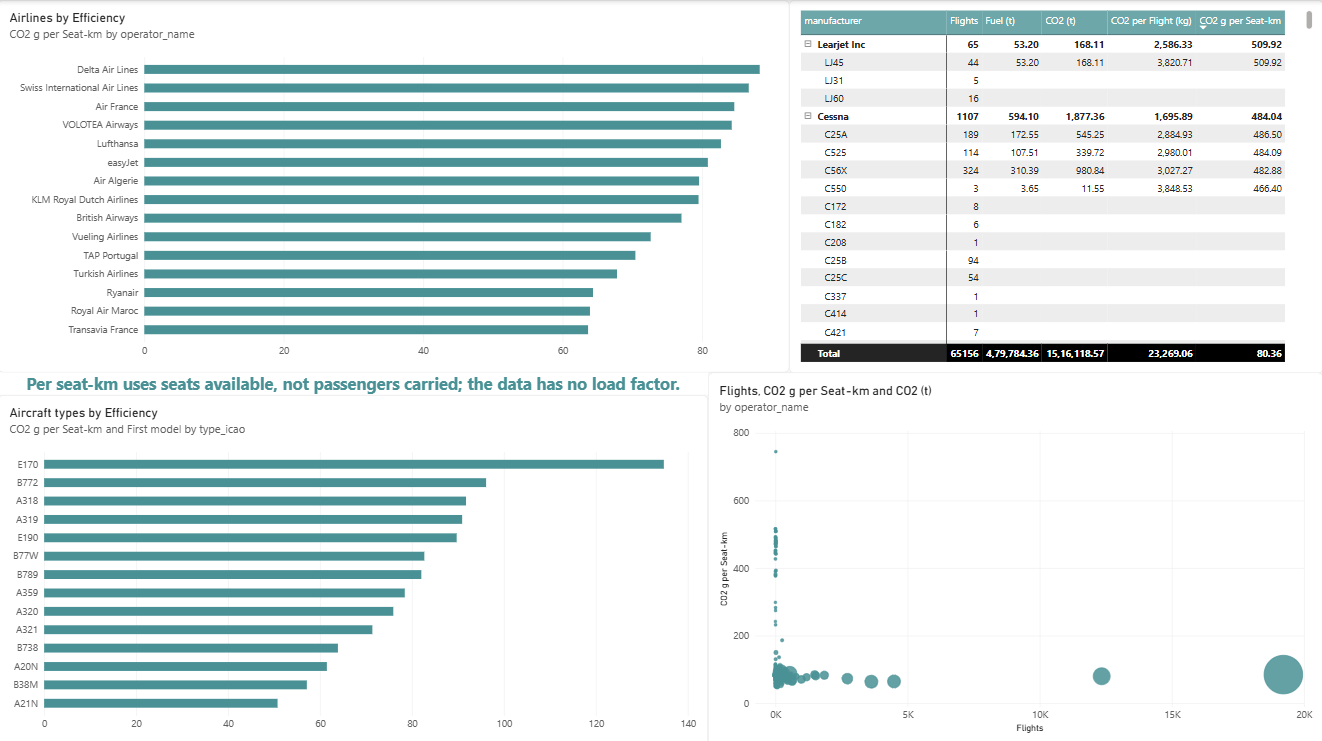

This screenshot's page, from the dashboard's own definition file:
{"tool":"powerbi","page":{"name":"Airlines & Aircrafts","canvas":[1920,1080],"ordinal":2},"visuals":[{"type":"clusteredBarChart","title":"Airlines by Efficiency","fields":{"Category":["v_flight_kpi.operator_name"],"Y":["_Measures.CO2 g per Seat-km"]},"box":[0,0,1145.5,539.3],"z":0},{"type":"clusteredBarChart","title":"Aircraft types by Efficiency","fields":{"Category":["v_flight_kpi.type_icao"],"Y":["_Measures.CO2 g per Seat-km"]},"box":[0,572,1028,508],"z":1000},{"type":"pivotTable","fields":{"Rows":["v_flight_kpi.manufacturer","v_flight_kpi.type_icao"],"Values":["_Measures.Flights","_Measures.Fuel (t)","_Measures.CO2 (t)","_Measures.CO2 per Flight (kg)","_Measures.CO2 g per Seat-km"]},"box":[1145.5,0,774.5,541.1],"z":2000},{"type":"scatterChart","fields":{"Category":["v_flight_kpi.operator_name"],"Size":["_Measures.CO2 (t)"],"X":["_Measures.Flights"],"Y":["_Measures.CO2 g per Seat-km"]},"box":[1027.9,539.3,892.2,539.3],"z":3000},{"type":"textbox","box":[0,540,1028,32],"z":4000}]}

Visuals, with their boxes in screenshot pixels (x1, y1, x2, y2), scaled from the page's 1920x1080 canvas onto the 1322x741 screenshot:
"Airlines by Efficiency" clusteredBarChart: <bbox>0, 0, 789, 370</bbox>
"Aircraft types by Efficiency" clusteredBarChart: <bbox>0, 392, 708, 740</bbox>
pivotTable - v_flight_kpi.manufacturer x v_flight_kpi.type_icao: <bbox>789, 0, 1321, 371</bbox>
scatterChart - v_flight_kpi.operator_name x _Measures.CO2 (t): <bbox>708, 370, 1321, 740</bbox>
textbox: <bbox>0, 370, 708, 392</bbox>
